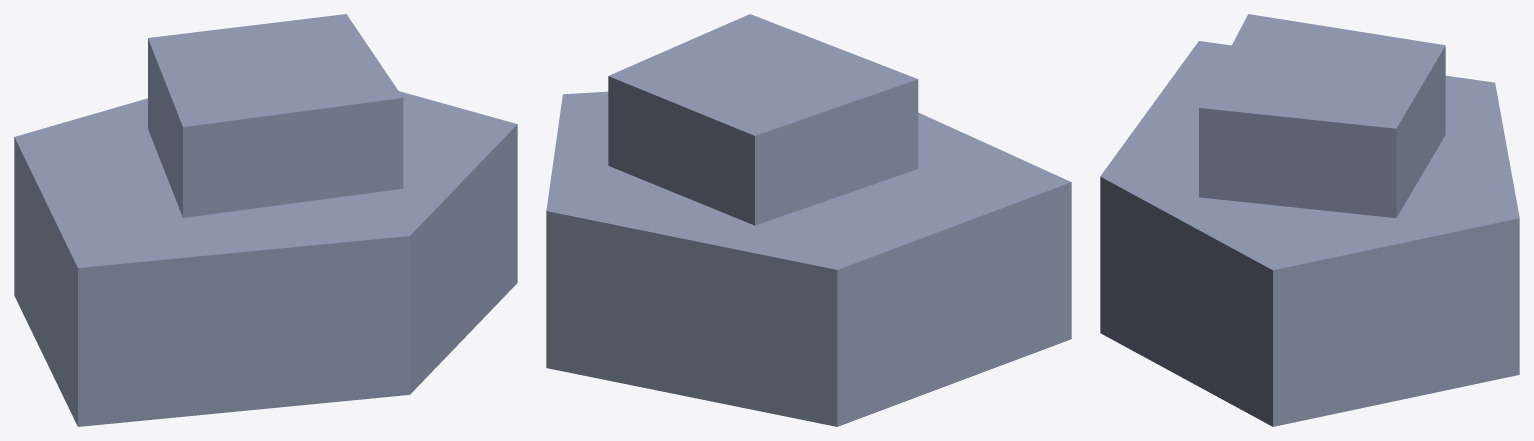
File: silex.glb
3 renders of one model, left to right at view 1: azimuth 30°, elevation 25°; view 2: azimuth 150°, elevation 25°; view 3: azimuth 270°, elevation 25°, orthographic.
Visible parts, largest first — view 1: silex; view 2: silex; view 3: silex.
Boxes of the visible parts, <box> form: silex: <box>14,14,517,426</box>; silex: <box>546,14,1071,426</box>; silex: <box>1100,14,1519,426</box>.
Bounding box in the file's own units: 0.22 × 0.11 × 0.17.
